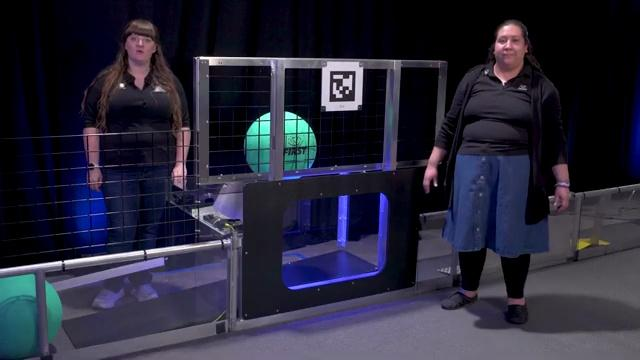ALGAE: (0, 272, 63, 358), (243, 110, 317, 173)
